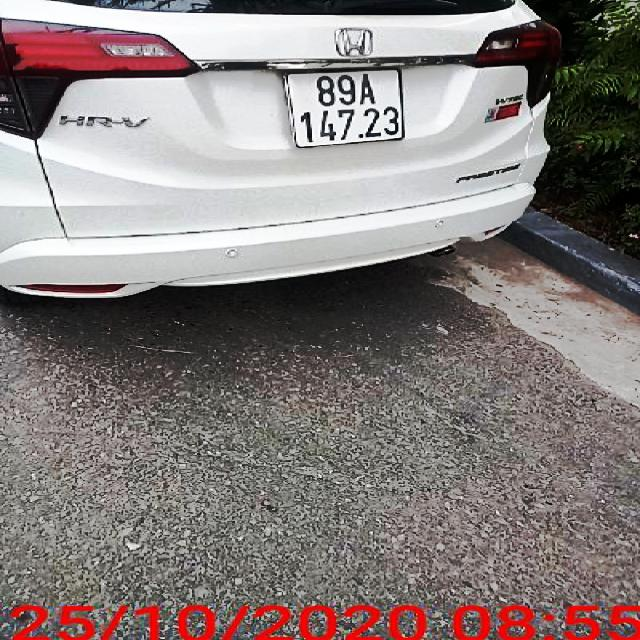license_plate: (283, 70, 404, 147)
